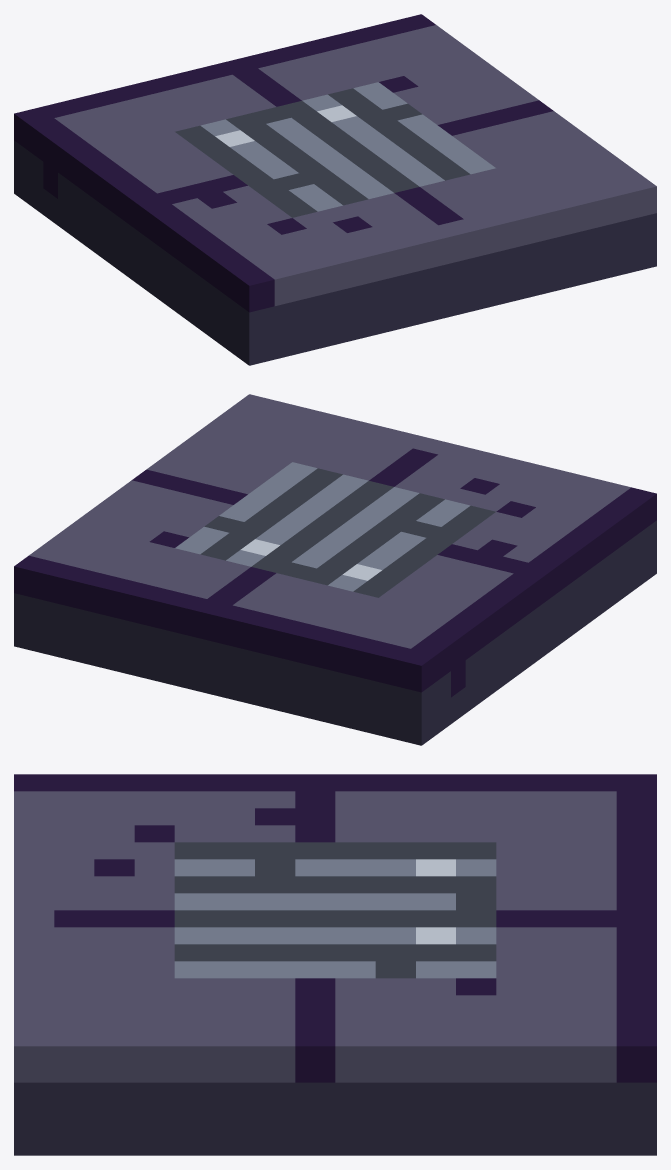
Rendered from floor_stone_drain.obj.
The picture shows the model from 3 angles, top to bottom: view 1: azimuth 30°, elevation 25°; view 2: azimuth 150°, elevation 25°; view 3: azimuth 270°, elevation 25°; orthographic projection. The views are drawn at different scales.
Parts seen in each view (by area): view 1: floor_stone_drain; view 2: floor_stone_drain; view 3: floor_stone_drain.
Boxes of the visible parts, x1,y1,x2,y2 form: floor_stone_drain: (14, 14, 656, 365); floor_stone_drain: (14, 394, 656, 745); floor_stone_drain: (14, 774, 656, 1155).
Bounding box in the file's own units: 1 × 0.1875 × 1.
Materials: 1 (1 with a texture image).
